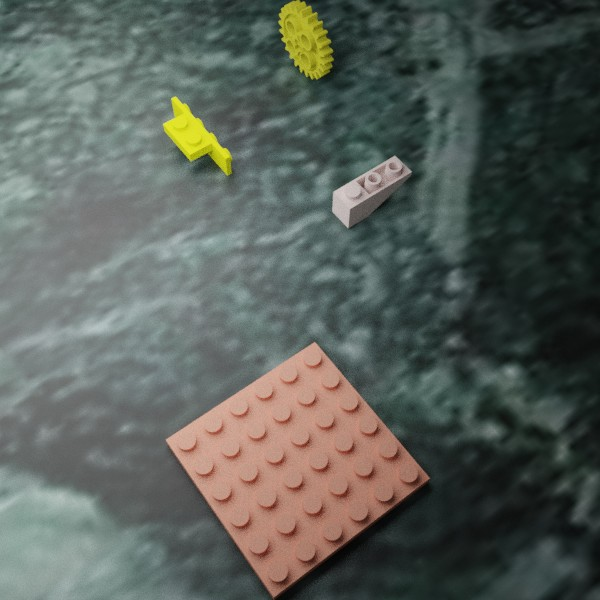lego: (165, 342, 429, 599), (332, 155, 411, 228), (163, 96, 232, 175), (278, 0, 333, 79)
